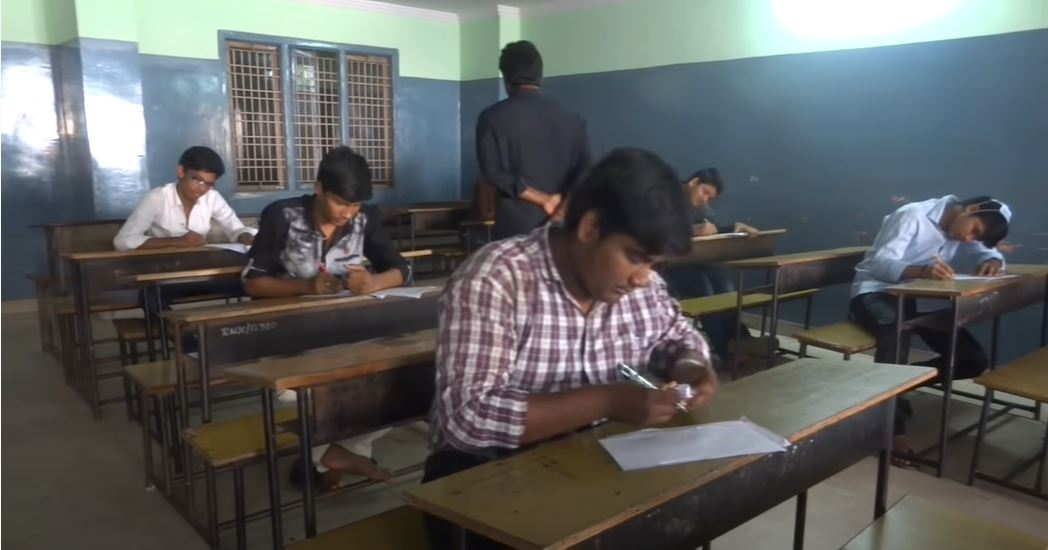invigilator: (479, 44, 590, 247)
student: (443, 171, 719, 447), (261, 143, 407, 306), (864, 197, 1014, 329), (129, 147, 265, 255), (664, 156, 755, 253)
